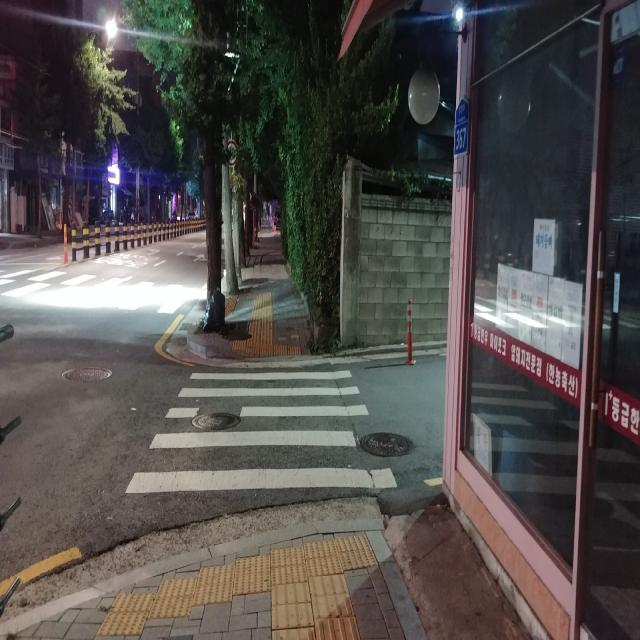횡단보도: (122, 366, 399, 496), (0, 277, 186, 313)
